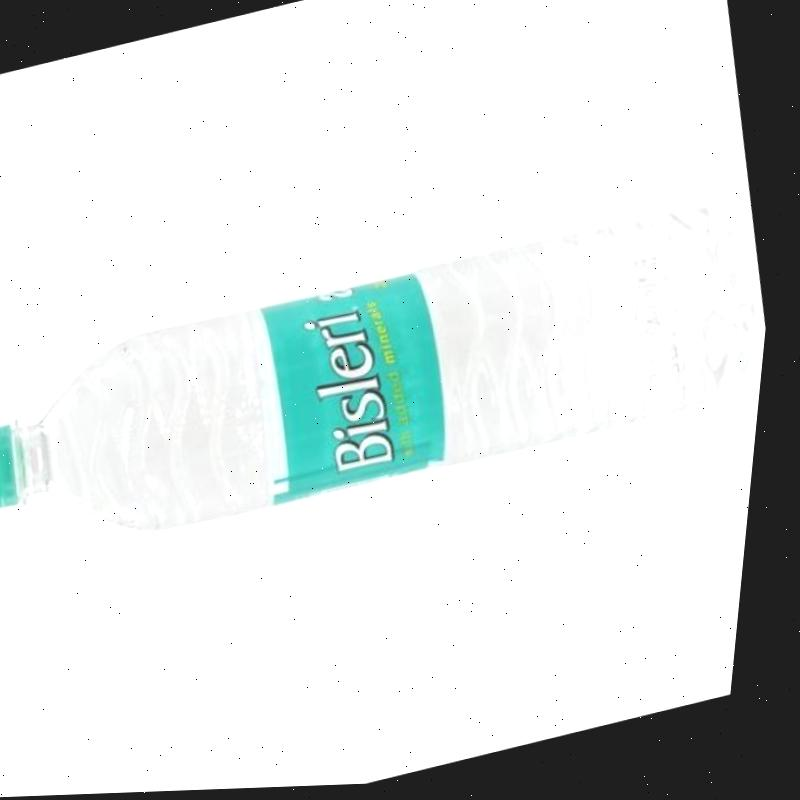botella: (0, 191, 784, 580)
